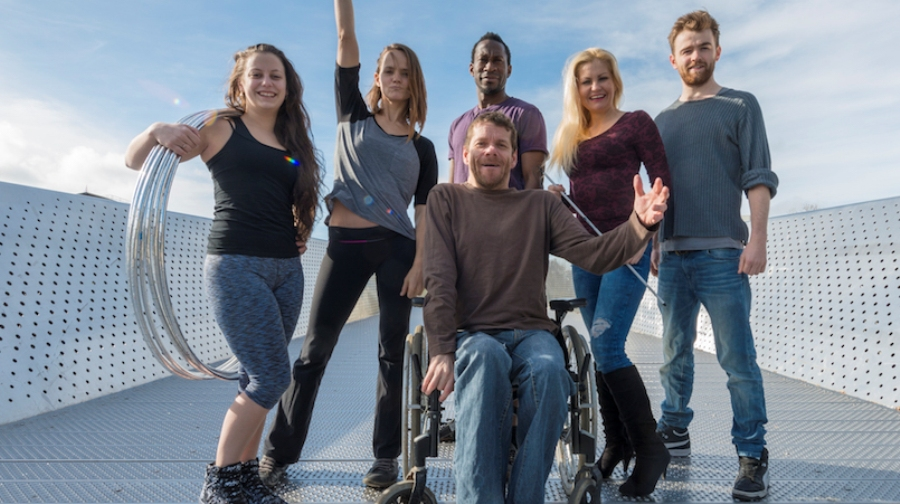person: (126, 40, 318, 499), (643, 11, 800, 500), (428, 116, 578, 498), (551, 53, 678, 492), (308, 17, 417, 493), (429, 20, 546, 120)
